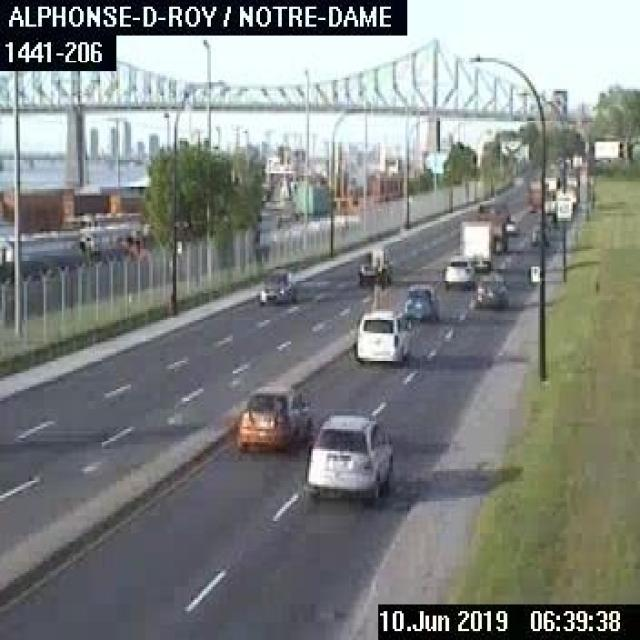vehicle: (302, 408, 394, 502), (230, 382, 314, 452), (351, 308, 418, 364), (455, 211, 494, 272), (473, 197, 508, 257), (258, 262, 300, 307), (352, 247, 394, 289), (402, 282, 436, 327), (470, 272, 510, 309), (522, 173, 556, 216), (441, 255, 476, 287), (527, 227, 553, 249)
